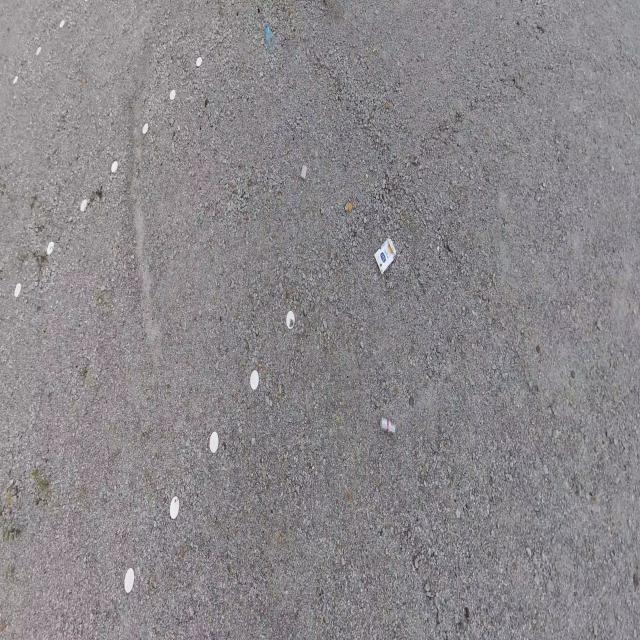rubbish: (373, 238, 397, 277), (380, 417, 396, 434), (264, 25, 275, 49), (300, 164, 308, 179)
